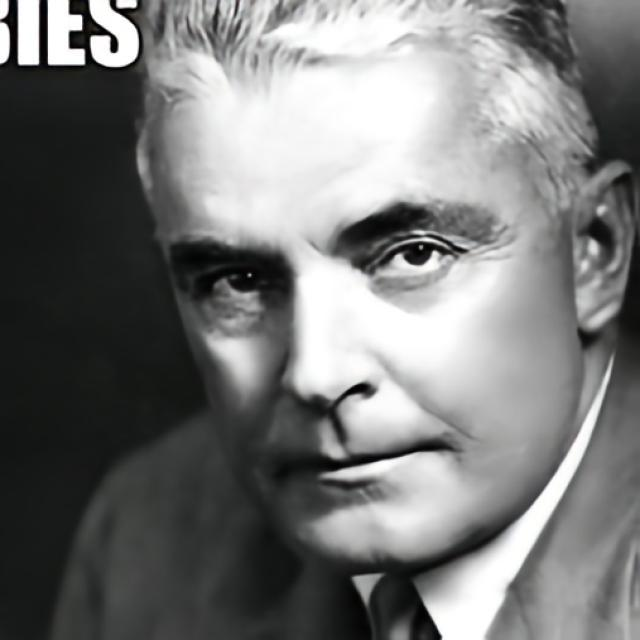neutral: (162, 66, 564, 580)
